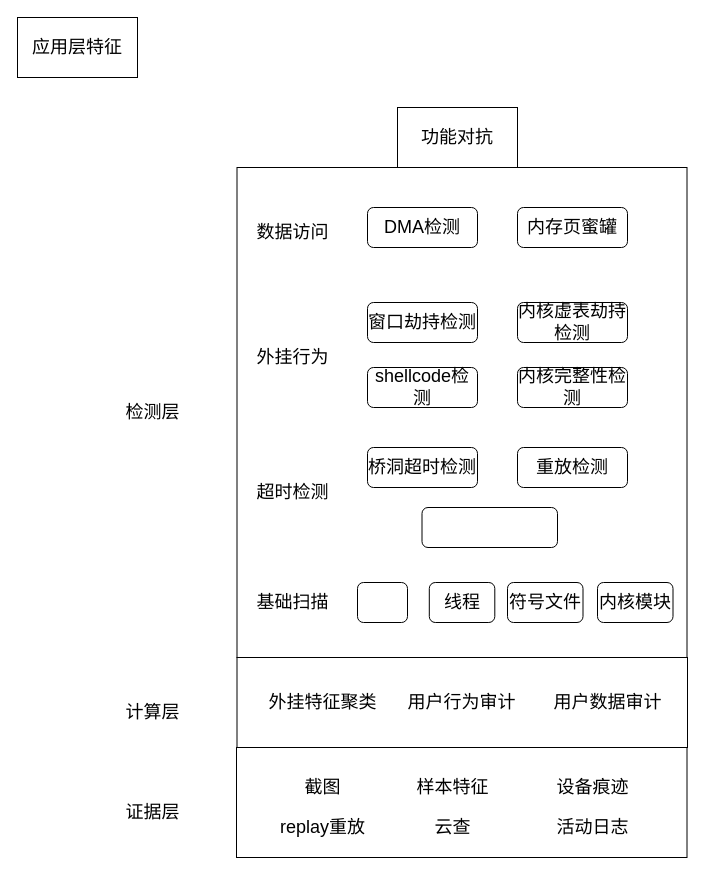
Some shapes in this 705 by 875 pixel diagram are drawn without their labels. The shapes that lost their labels are listed below. From the top down, each one's centre as x and y in pixels, then its label:
At (x=489, y=527): "各组件心跳检测".
At (x=382, y=602): "进程".
